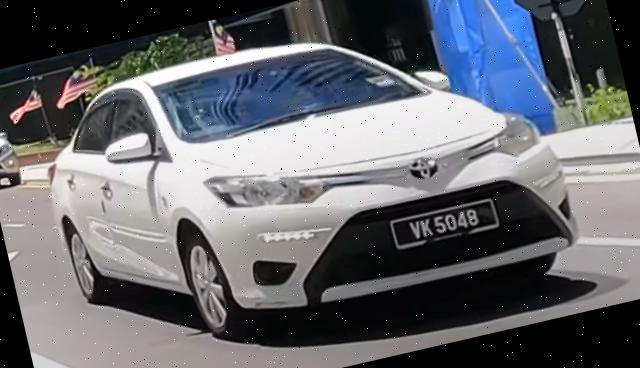License_Plate: (388, 196, 503, 254)
car: (25, 1, 589, 368)
